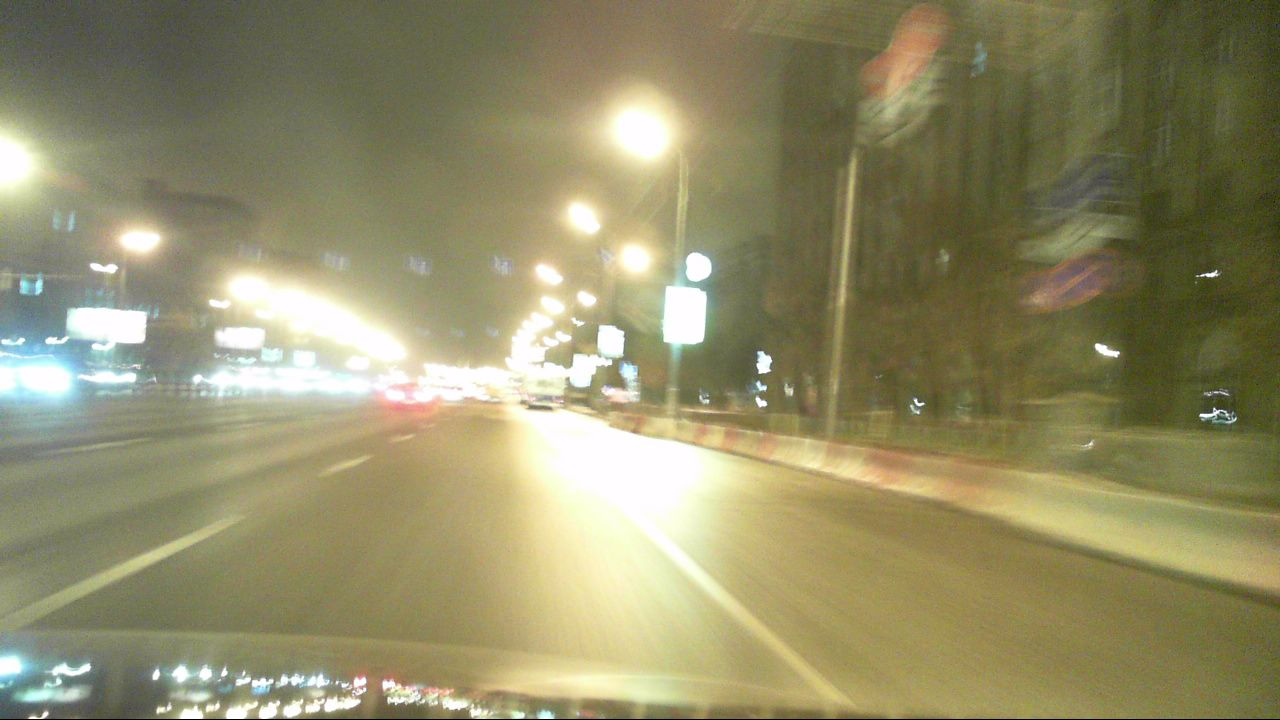No Parking: (1076, 246, 1127, 293)
